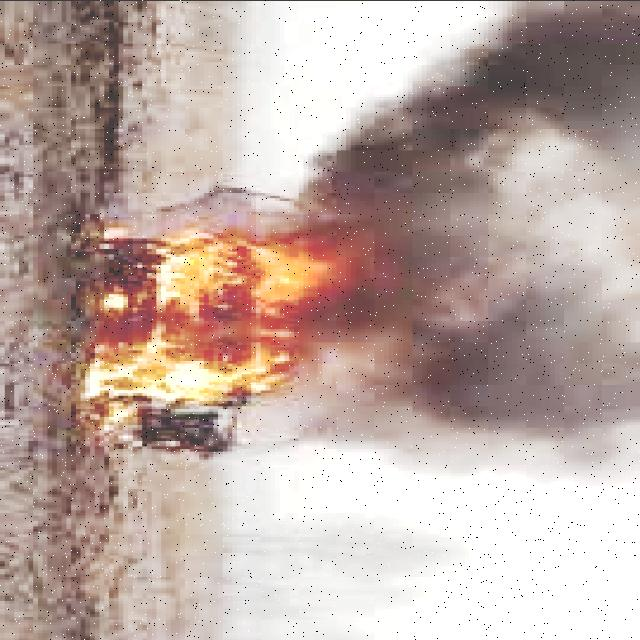api: (92, 217, 338, 423)
